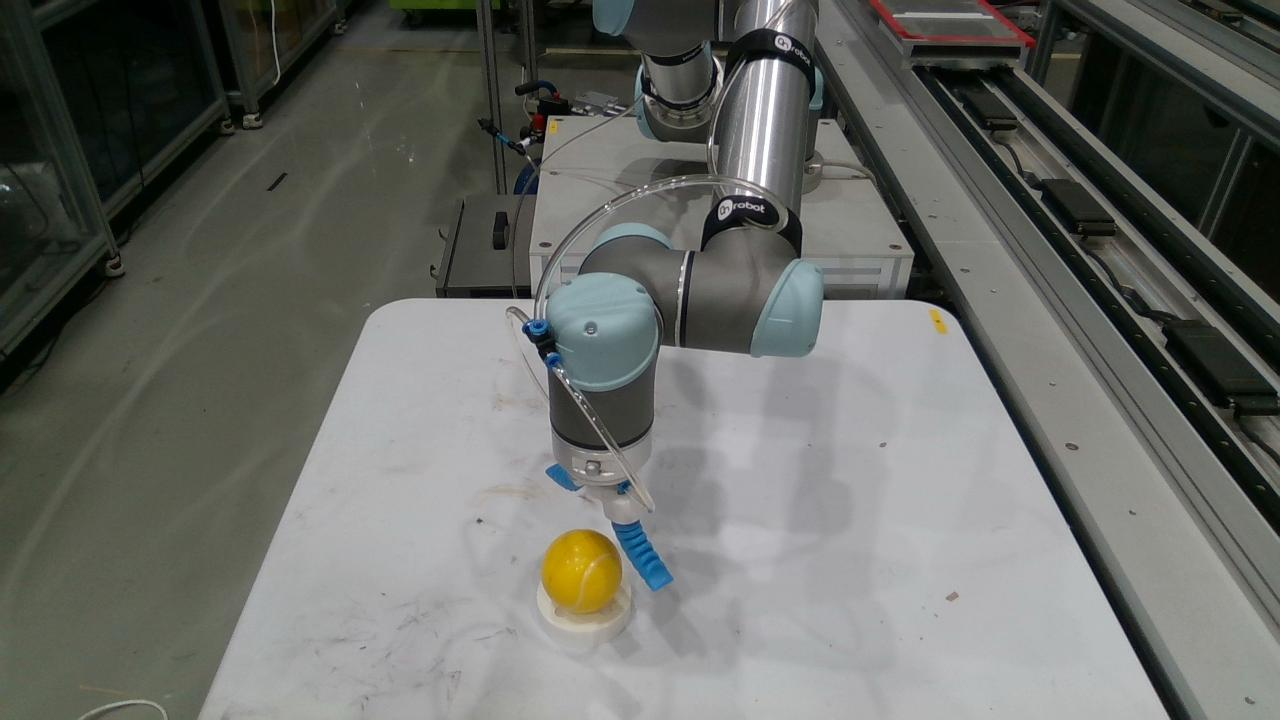UR5: (544, 0, 825, 523)
gripper_left: (547, 464, 581, 491)
gripper_right: (612, 521, 673, 589)
target: (541, 528, 623, 613), (534, 580, 633, 647)
